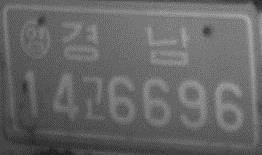1: (23, 68, 44, 118)
4: (50, 70, 81, 123)
6: (141, 74, 173, 129), (213, 80, 244, 132), (108, 74, 138, 126)
9: (176, 79, 210, 129)
경남_D: (56, 18, 193, 68)
고: (79, 74, 109, 122)
영: (18, 20, 52, 61)
